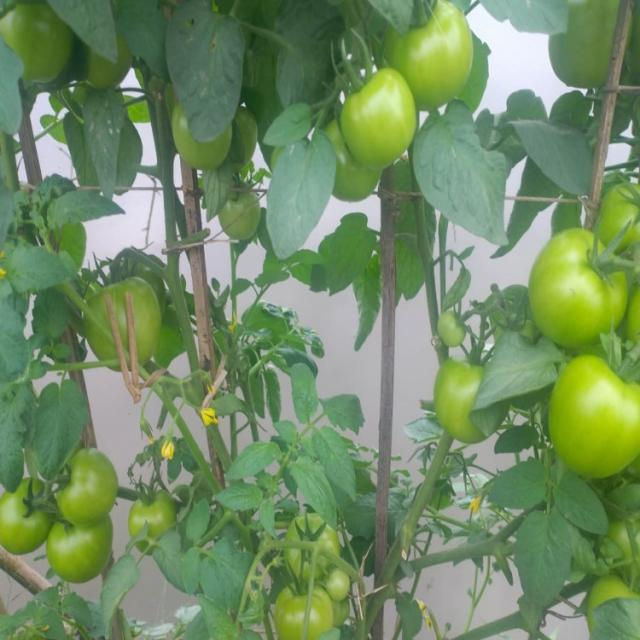tomato: (549, 355, 640, 483), (524, 228, 623, 340), (385, 1, 475, 105), (82, 281, 166, 372), (553, 8, 632, 91), (348, 75, 420, 166), (1, 6, 81, 86), (437, 364, 501, 441), (56, 451, 117, 521), (323, 128, 382, 200), (588, 178, 640, 253), (47, 521, 112, 581), (81, 32, 143, 94), (169, 108, 232, 169), (218, 183, 272, 251), (271, 581, 332, 640), (1, 485, 49, 559), (133, 485, 173, 556), (592, 582, 640, 638), (294, 517, 334, 571), (234, 106, 265, 164), (613, 522, 640, 578), (323, 565, 353, 603), (626, 285, 640, 346), (435, 314, 462, 343)
